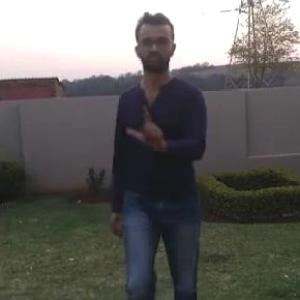land_hand: (124, 98, 171, 156)
